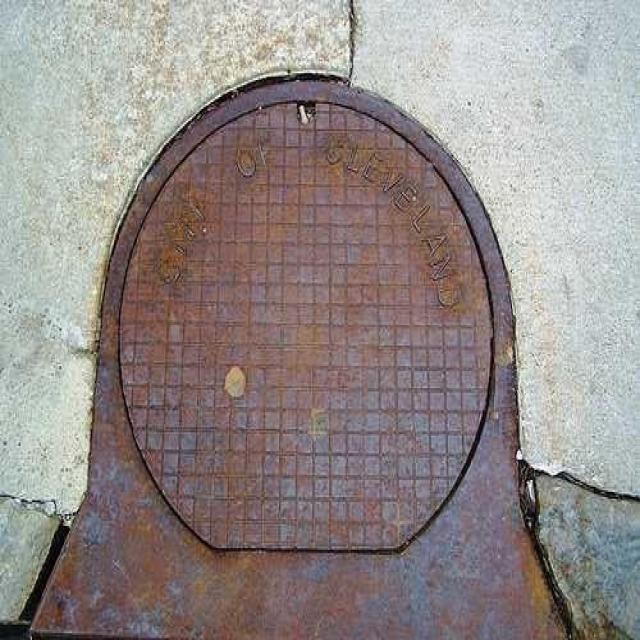manhole: (120, 100, 491, 549)
